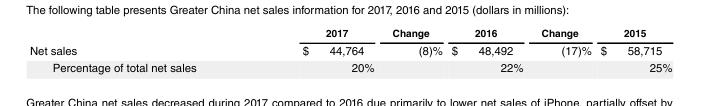table: (28, 29, 671, 74)
table column: (28, 29, 248, 74), (248, 29, 382, 74), (446, 29, 531, 74), (595, 29, 671, 74), (382, 29, 446, 74), (531, 29, 595, 74)
table column header: (28, 29, 671, 42)
table row: (28, 42, 671, 59), (28, 59, 671, 74), (28, 29, 671, 42)
